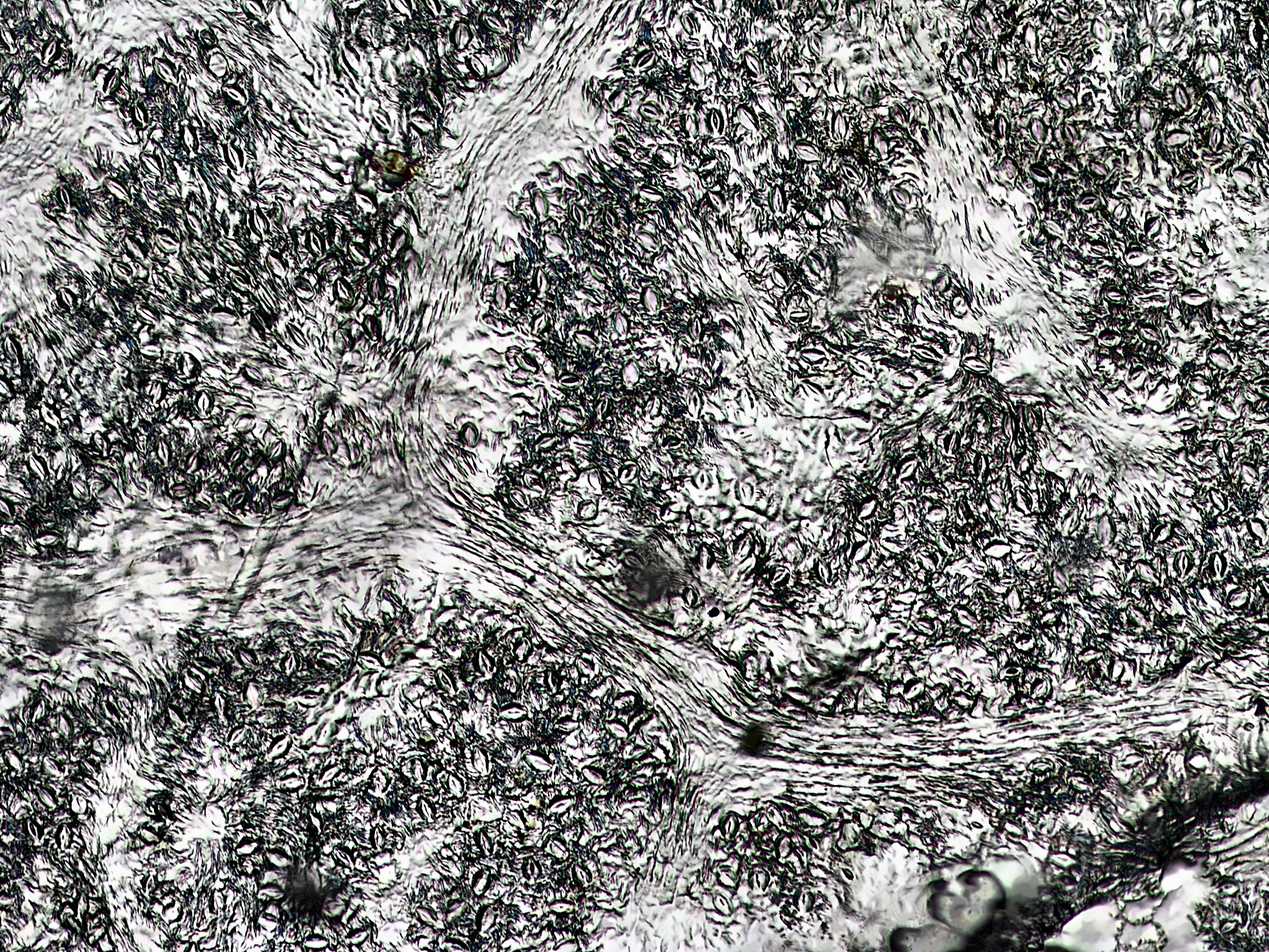stomata: (449, 19, 473, 52), (265, 733, 293, 761), (639, 285, 663, 316), (247, 206, 270, 238), (1248, 17, 1269, 51), (153, 58, 178, 85), (367, 765, 391, 793), (612, 690, 641, 713), (1021, 20, 1040, 55), (968, 8, 990, 38), (475, 903, 497, 933), (242, 679, 264, 709), (41, 35, 62, 66), (859, 76, 880, 107), (733, 532, 754, 563), (153, 229, 179, 254), (233, 645, 258, 671), (20, 818, 45, 844), (735, 105, 759, 132), (951, 604, 978, 628), (1, 747, 25, 774), (870, 127, 889, 161), (178, 351, 201, 379), (422, 84, 445, 112), (222, 142, 244, 171), (956, 50, 977, 80), (684, 387, 705, 417), (189, 655, 219, 676), (1126, 603, 1151, 628), (103, 178, 129, 202), (619, 359, 642, 386), (182, 668, 205, 695), (960, 355, 991, 375), (1027, 115, 1049, 143), (548, 794, 576, 816), (179, 123, 200, 152), (1090, 16, 1111, 45), (416, 795, 437, 824), (259, 903, 280, 932), (529, 188, 548, 220), (138, 152, 162, 177), (368, 108, 392, 133), (982, 539, 1012, 559), (901, 676, 925, 701), (1000, 410, 1020, 440), (354, 652, 384, 672), (54, 710, 74, 740), (355, 189, 378, 215), (408, 110, 434, 133), (332, 278, 354, 305), (90, 430, 112, 457), (1137, 323, 1164, 345), (434, 667, 456, 694), (769, 183, 788, 214), (1048, 851, 1079, 870), (470, 745, 489, 776), (40, 401, 61, 429), (829, 194, 850, 222), (1204, 49, 1225, 77), (793, 885, 814, 913), (102, 67, 122, 96), (289, 107, 309, 136), (524, 752, 553, 772), (264, 848, 293, 868), (911, 344, 943, 362), (423, 705, 447, 729), (897, 457, 920, 482), (472, 650, 495, 675), (181, 212, 203, 238), (480, 10, 506, 32), (888, 103, 910, 129), (1135, 560, 1161, 582), (686, 57, 705, 87), (475, 828, 494, 858), (294, 688, 324, 707), (2, 336, 23, 363), (1208, 350, 1235, 371), (1173, 550, 1194, 577), (471, 868, 492, 895), (993, 112, 1013, 140), (1171, 84, 1191, 112), (1013, 486, 1033, 514), (1004, 586, 1024, 614), (695, 543, 715, 571), (521, 854, 541, 882), (110, 259, 134, 282), (653, 145, 677, 168), (544, 233, 568, 256), (506, 487, 528, 512), (28, 454, 49, 480), (680, 113, 701, 139), (557, 404, 583, 425), (748, 865, 769, 891), (208, 691, 229, 717), (794, 142, 821, 162), (744, 50, 764, 77), (1180, 288, 1210, 306), (532, 265, 550, 295), (805, 251, 825, 278), (281, 650, 301, 677), (498, 704, 528, 722), (603, 719, 630, 739), (803, 832, 823, 859), (581, 765, 608, 785), (319, 430, 338, 458), (686, 314, 705, 342), (720, 811, 739, 839), (348, 241, 371, 264), (136, 304, 160, 326), (514, 350, 538, 372), (523, 469, 545, 493), (831, 110, 848, 141), (608, 87, 629, 112), (1247, 517, 1268, 542), (458, 423, 479, 448), (572, 863, 593, 888), (391, 228, 409, 257), (1024, 403, 1042, 432), (466, 52, 486, 78), (380, 59, 400, 85), (1208, 487, 1228, 513), (1067, 774, 1094, 793), (1052, 54, 1075, 76), (1054, 88, 1077, 110), (916, 550, 938, 573), (35, 786, 58, 808), (265, 252, 286, 276), (307, 229, 325, 257), (633, 49, 657, 70), (707, 107, 725, 135), (712, 892, 733, 916), (222, 84, 247, 104), (573, 329, 598, 349), (618, 461, 638, 486), (136, 824, 161, 844), (973, 453, 990, 482), (1026, 757, 1055, 774), (1163, 129, 1190, 147), (1137, 106, 1155, 133), (612, 311, 630, 338), (813, 559, 831, 586), (840, 162, 862, 184), (1212, 439, 1234, 461), (588, 261, 610, 283), (292, 276, 313, 299), (1039, 218, 1062, 239), (57, 286, 77, 310), (287, 323, 307, 347), (1097, 329, 1121, 349), (1125, 248, 1149, 268), (848, 356, 872, 376), (166, 703, 186, 727), (33, 530, 61, 547), (365, 276, 384, 301), (1247, 76, 1266, 101), (735, 480, 754, 505), (409, 756, 428, 781), (54, 825, 73, 850), (638, 185, 664, 203), (859, 495, 877, 521), (553, 715, 579, 733), (279, 773, 305, 791), (364, 312, 380, 341), (808, 31, 824, 60), (547, 899, 576, 915), (705, 190, 726, 212), (1228, 588, 1249, 610), (577, 499, 599, 520), (332, 846, 353, 868), (227, 724, 248, 746), (912, 616, 935, 636), (984, 490, 1004, 513), (993, 51, 1010, 78), (55, 184, 74, 208), (636, 103, 660, 122), (1060, 121, 1079, 145), (1051, 5, 1075, 24), (594, 395, 613, 419), (131, 102, 149, 127), (1209, 552, 1227, 577), (543, 669, 561, 694), (446, 772, 464, 797), (369, 824, 386, 850), (230, 270, 250, 292), (802, 209, 824, 229), (692, 469, 714, 489), (851, 540, 871, 562), (768, 565, 790, 585), (1014, 633, 1037, 652), (936, 532, 955, 555), (319, 763, 342, 782), (232, 414, 256, 432), (643, 395, 661, 419), (536, 433, 560, 451), (345, 928, 369, 946), (944, 429, 961, 454), (557, 372, 582, 389), (70, 479, 89, 501), (184, 451, 203, 473), (681, 12, 700, 34), (1029, 164, 1051, 183), (1189, 374, 1211, 393), (770, 267, 789, 289), (570, 202, 586, 228), (924, 506, 950, 522), (303, 934, 329, 950), (140, 342, 163, 360), (602, 206, 620, 229), (1241, 462, 1259, 485), (236, 838, 259, 856), (269, 491, 293, 508), (195, 390, 211, 415), (90, 735, 109, 756), (42, 757, 61, 778), (141, 872, 159, 894), (1137, 43, 1154, 66), (157, 438, 170, 468), (532, 311, 548, 335), (242, 364, 262, 383), (559, 459, 579, 478), (154, 803, 174, 822), (575, 657, 595, 676), (116, 694, 134, 715), (70, 794, 88, 815), (1077, 647, 1102, 662), (612, 137, 634, 154), (1078, 194, 1100, 211), (1144, 217, 1161, 239), (261, 884, 284, 900), (1151, 524, 1171, 542), (801, 349, 825, 364), (170, 482, 191, 499), (1088, 160, 1109, 177), (1178, 417, 1199, 434), (1031, 678, 1048, 699), (588, 468, 605, 489), (416, 906, 437, 923), (1114, 200, 1130, 222), (1209, 126, 1223, 151), (999, 664, 1022, 679), (698, 156, 716, 175), (891, 188, 909, 207), (1106, 286, 1125, 304), (1042, 607, 1060, 626), (268, 439, 284, 460), (1218, 880, 1239, 896), (80, 758, 101, 774), (956, 498, 971, 520), (150, 380, 163, 404), (227, 446, 243, 465), (682, 587, 697, 607), (1178, 169, 1194, 187), (663, 435, 684, 448), (200, 29, 215, 47), (1220, 920, 1238, 934), (230, 491, 246, 506), (1091, 240, 1108, 254), (789, 313, 809, 323)
